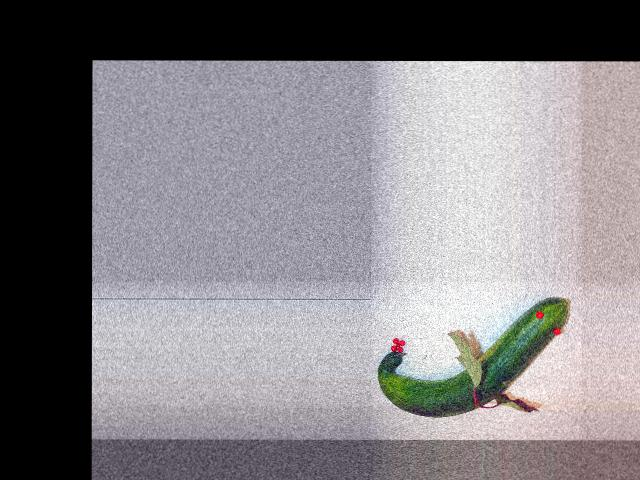cucumber: (377, 297, 567, 417)
